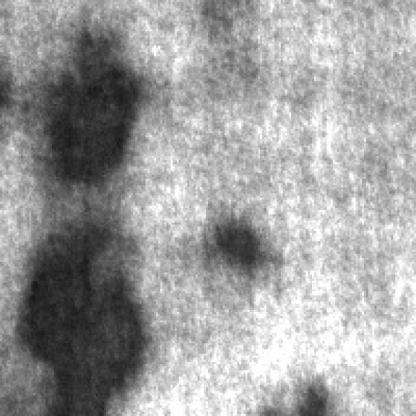patches: (23, 218, 150, 414), (45, 27, 146, 185), (214, 214, 271, 268)
